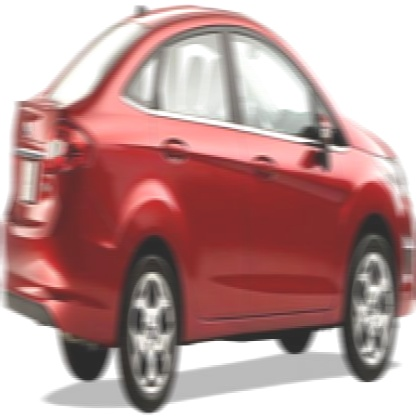Vehicle: (3, 2, 415, 414)
